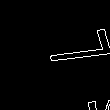L_W: (12, 35, 98, 75)
